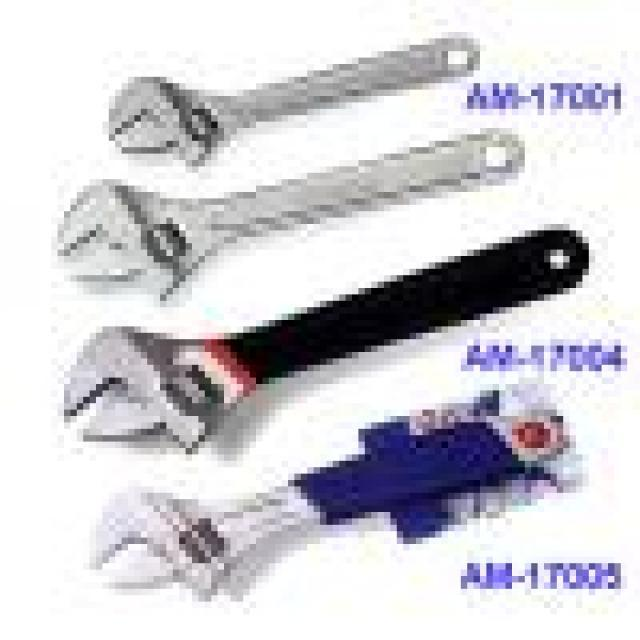wrench: (54, 222, 595, 460), (84, 409, 574, 599), (48, 122, 534, 307), (92, 28, 487, 166)
